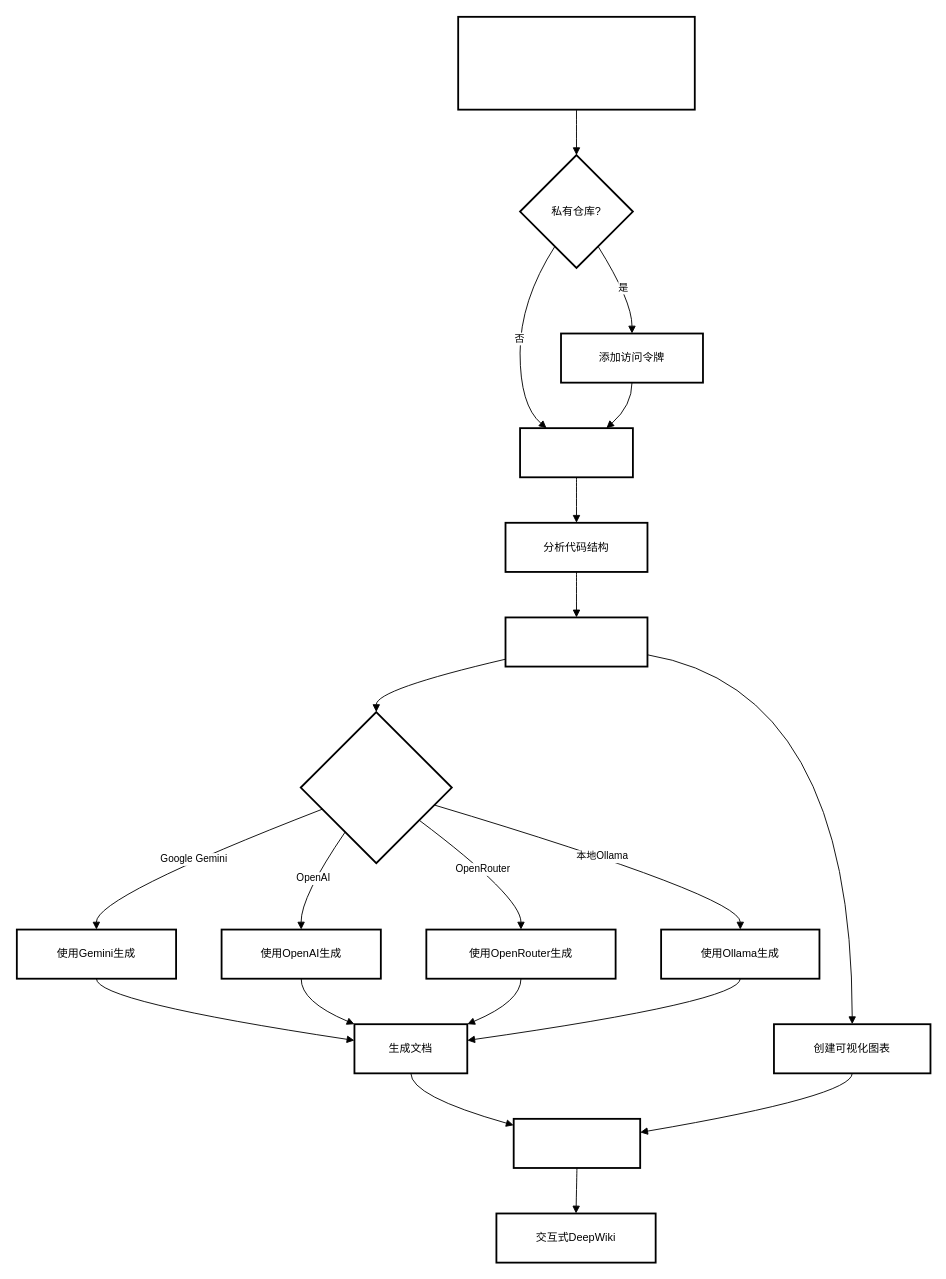
This 946x1279 diagram has some shape labels left out. Here are the shapes that lost their labels. From the top down, the centre of each, then its label:
point (576, 62): 用户输入GitHub/GitLab/Bitbucket仓库
point (576, 452): 克隆仓库
point (576, 641): 创建代码嵌入
point (375, 787): 选择模型提供商
point (576, 1142): 组织为Wiki
